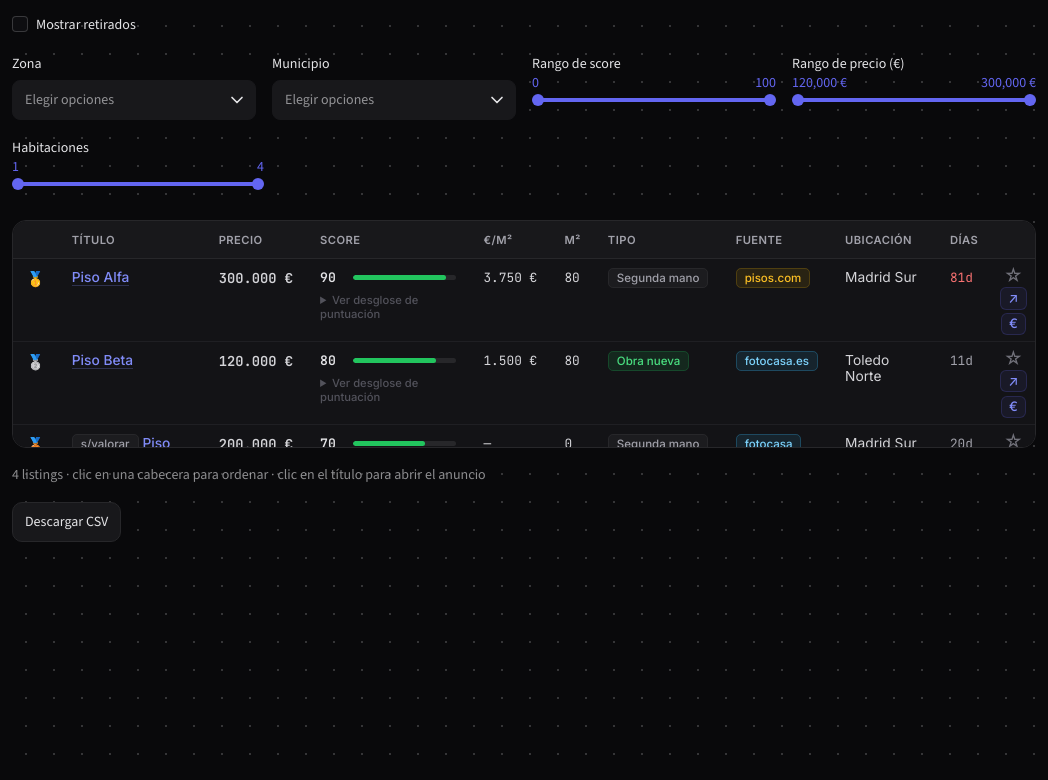
it: Listados: tabla › desglose desplegable por fila
Click the heading "Ver desglose de puntuación" below "90".
click(369, 307)  # box [320,293,418,321]
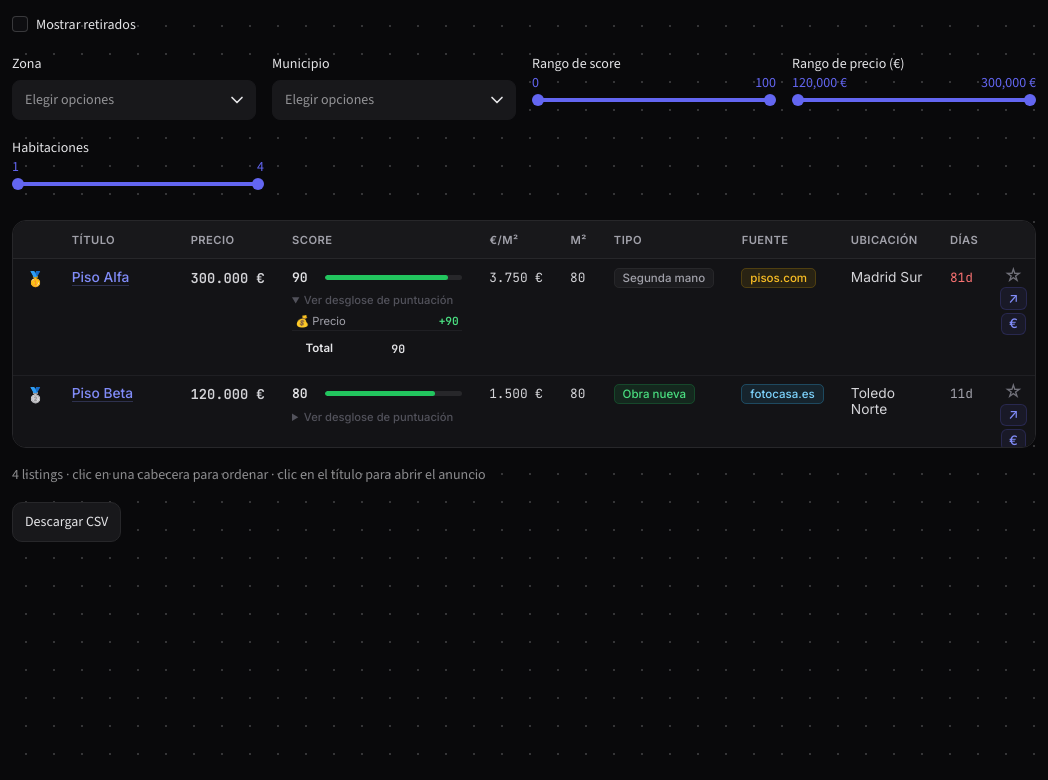
Now the row with class "sb-total" reads "Total 90", box [292,330,462,365]
